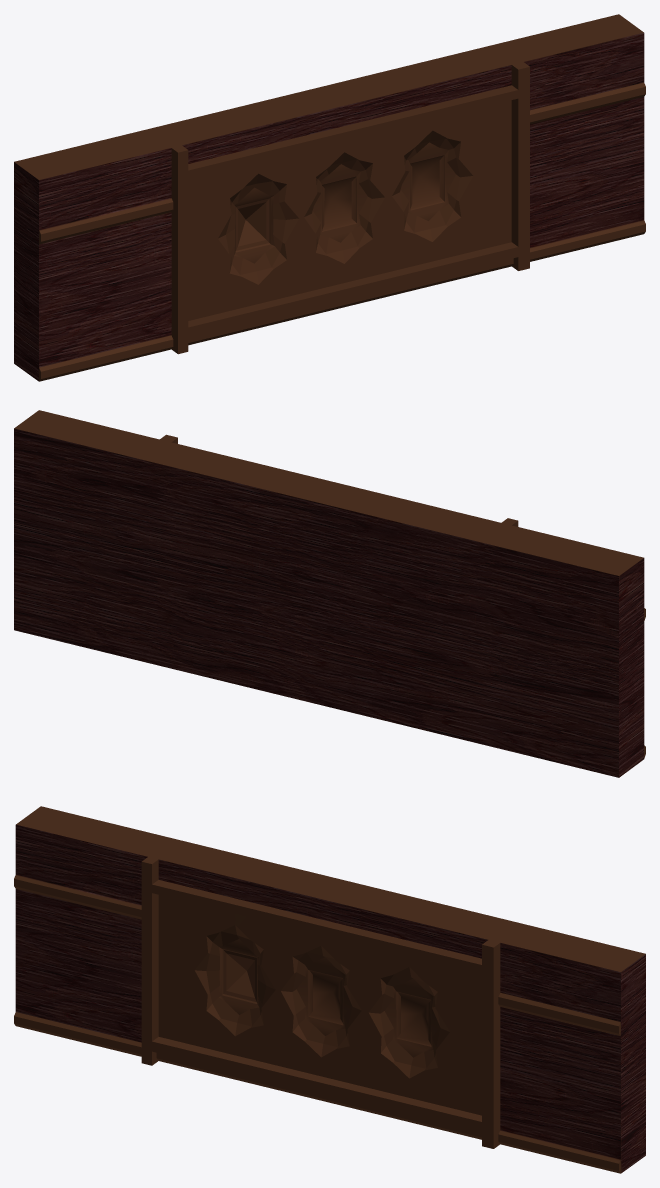
Rendered from Gemstone_Wall_Textured.fbx.
The picture shows the model from 3 angles, top to bottom: view 1: azimuth 30°, elevation 25°; view 2: azimuth 150°, elevation 25°; view 3: azimuth 330°, elevation 25°; orthographic projection.
Visible parts, largest first — view 1: pasted__pCube41; view 2: pasted__pCube41; view 3: pasted__pCube41.
Part boxes in pixels (box(x1,y1,x2,y2)): pasted__pCube41: box(14, 14, 645, 381); pasted__pCube41: box(14, 410, 645, 777); pasted__pCube41: box(14, 806, 645, 1173).
Size of the model in its own units: 13.47 by 4.29 by 1.22.
1 material, 1 textured.
